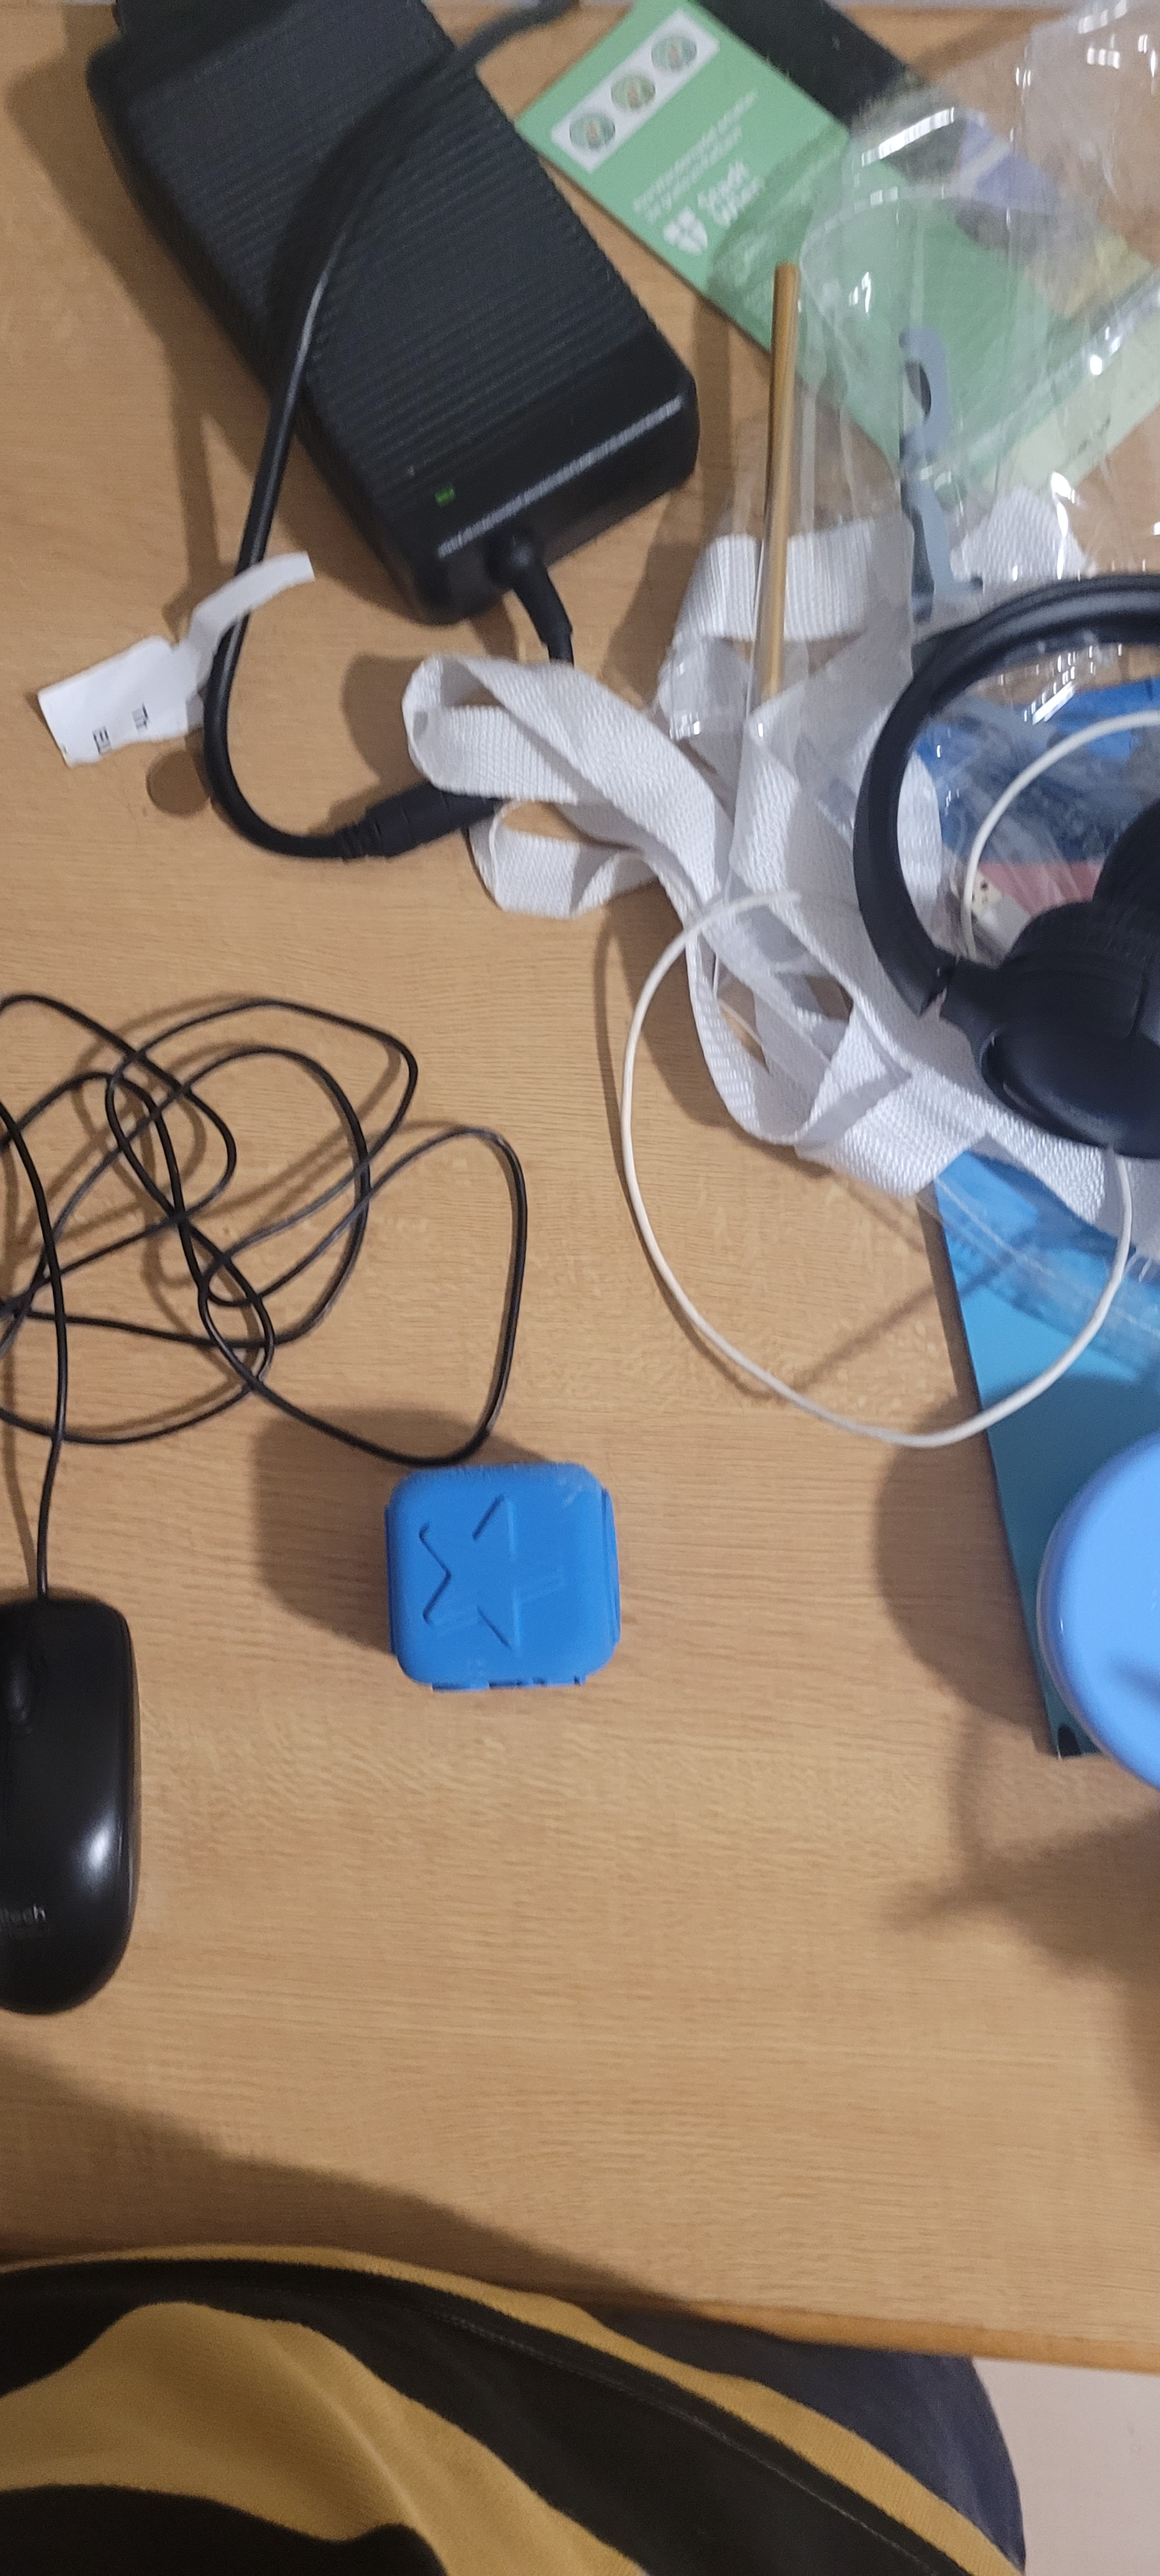Star: (414, 1490, 595, 1686)
